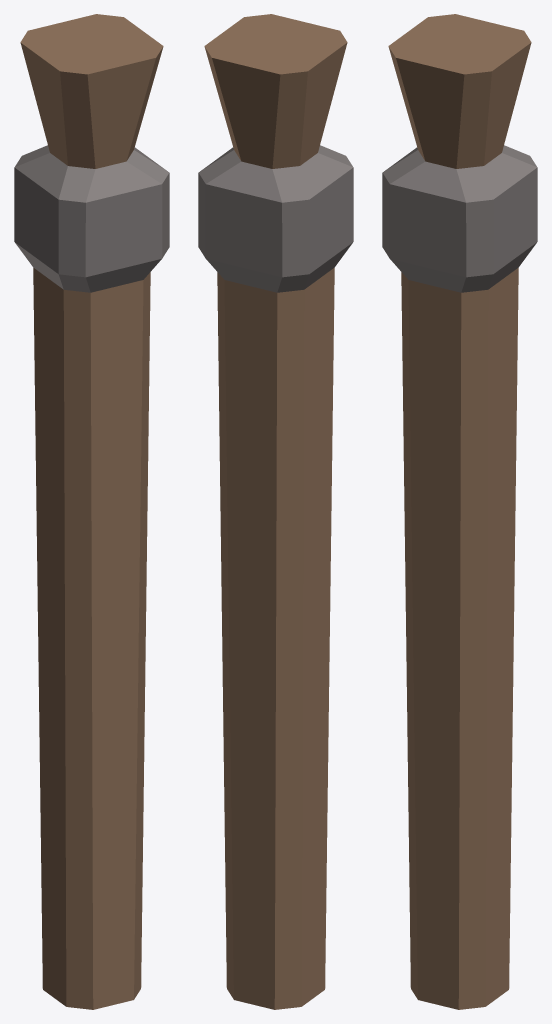
The model's file is Lever_top.fbx.
3 views of the same model, side by side, from view 1: azimuth 30°, elevation 25°; view 2: azimuth 150°, elevation 25°; view 3: azimuth 330°, elevation 25° (orthographic).
Visible parts, largest first — view 1: ye I can't be bothered to name all objects bruv.005; view 2: ye I can't be bothered to name all objects bruv.005; view 3: ye I can't be bothered to name all objects bruv.005.
Part boxes in pixels (x1,y1,x2,y2): ye I can't be bothered to name all objects bruv.005: [14, 14, 169, 1009]; ye I can't be bothered to name all objects bruv.005: [198, 14, 353, 1009]; ye I can't be bothered to name all objects bruv.005: [382, 14, 537, 1009].
Size of the model in its own units: 12.55 by 102 by 12.55.
Materials: 1 (1 with a texture image).
